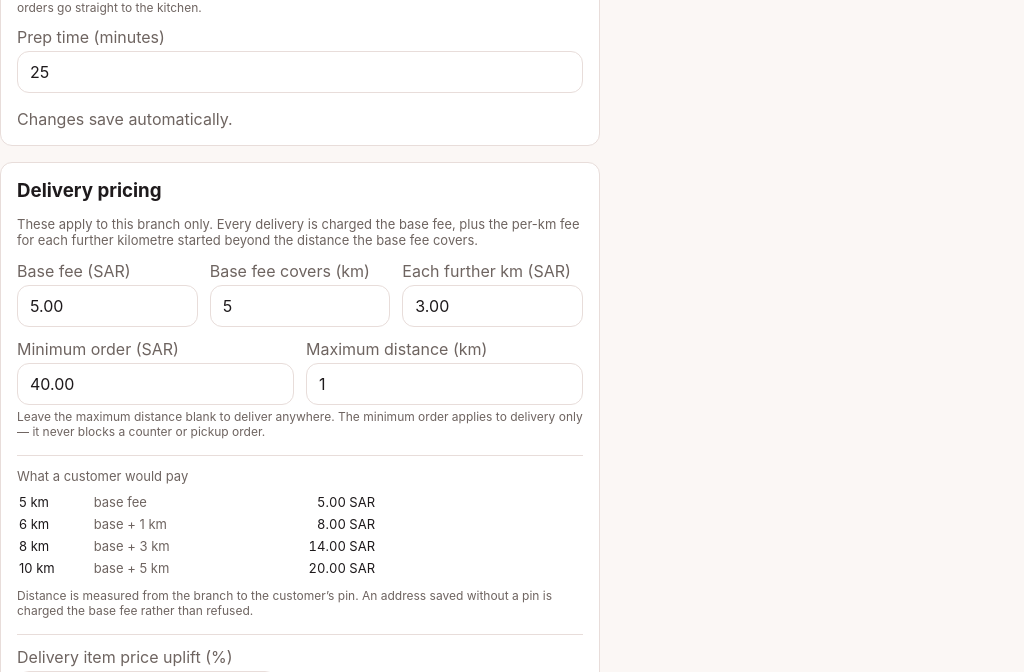
Branch settings — delivery pricing › says so when the save is rejected, instead of looking saved
(page scrolled)
Replace the text in the number field with placeholder "No limit" with "900" at (444, 384), box [306,363,583,405]
(page scrolled)
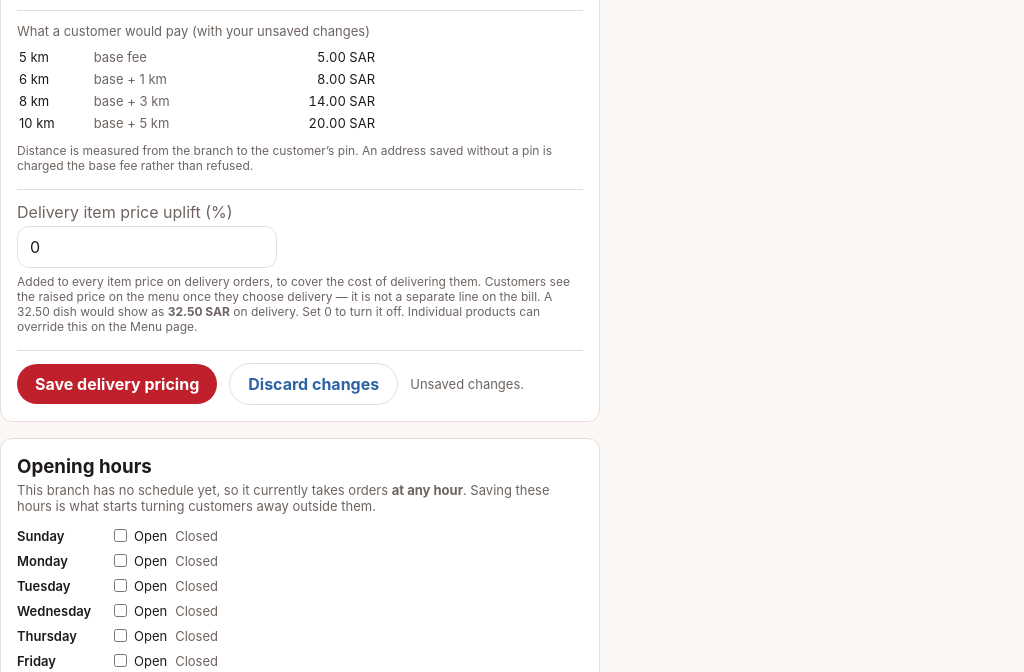
Click the button "Save delivery pricing" at (117, 384), box [17,364,217,404]
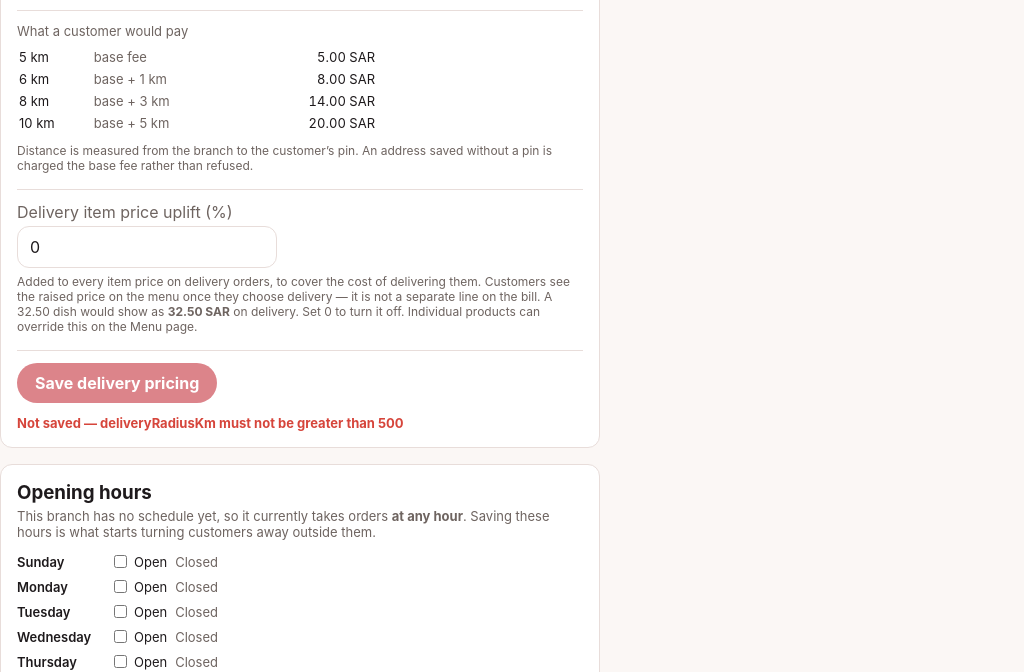
Now the message shows "Not saved", box [17,415,404,431]
Now the message shows "greater than 500", box [17,415,404,431]
